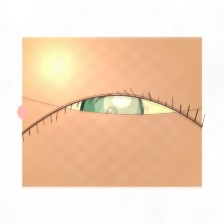corneal_ulcer: (91, 78, 151, 127)
